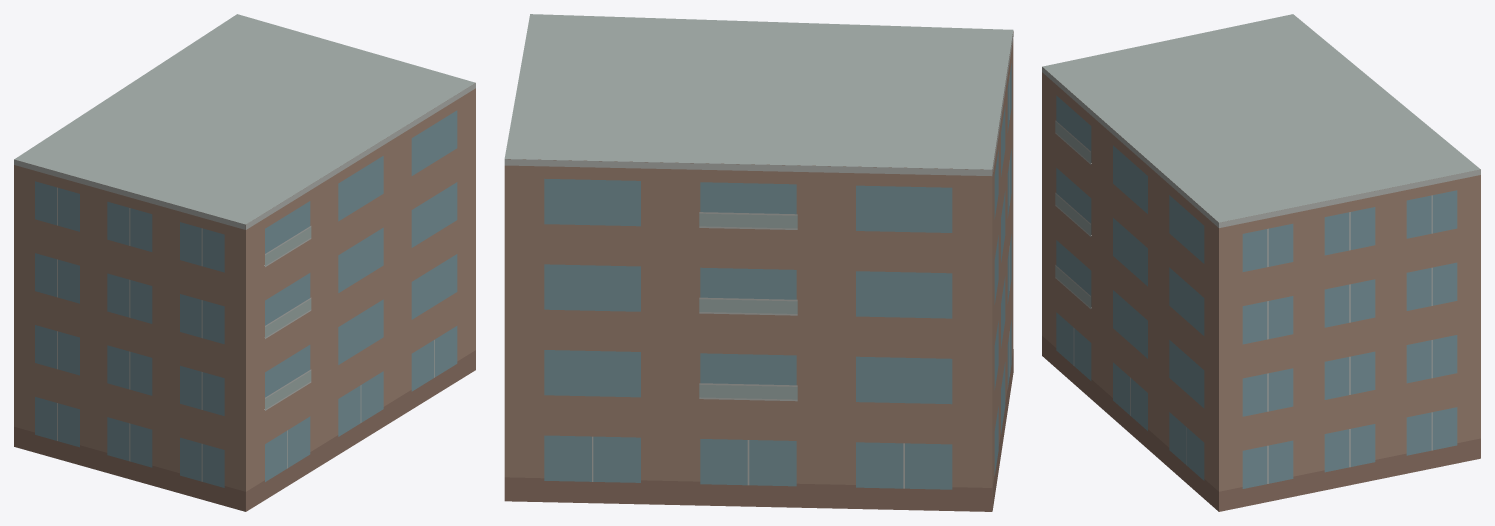
The model's file is survey-upis-33006990.glb.
3 renders of one model, left to right at view 1: azimuth 30°, elevation 25°; view 2: azimuth 150°, elevation 25°; view 3: azimuth 270°, elevation 25°, orthographic. The views are drawn at different scales.
Parts seen in each view (by area): view 1: survey-upis-33006990.tmp; view 2: survey-upis-33006990.tmp; view 3: survey-upis-33006990.tmp.
Boxes of the visible parts, x1,y1,x2,y2 form: survey-upis-33006990.tmp: (14, 14, 475, 511); survey-upis-33006990.tmp: (504, 14, 1013, 511); survey-upis-33006990.tmp: (1042, 14, 1480, 511).
Size of the model in its own units: 19.82 by 12.8 by 17.61.
